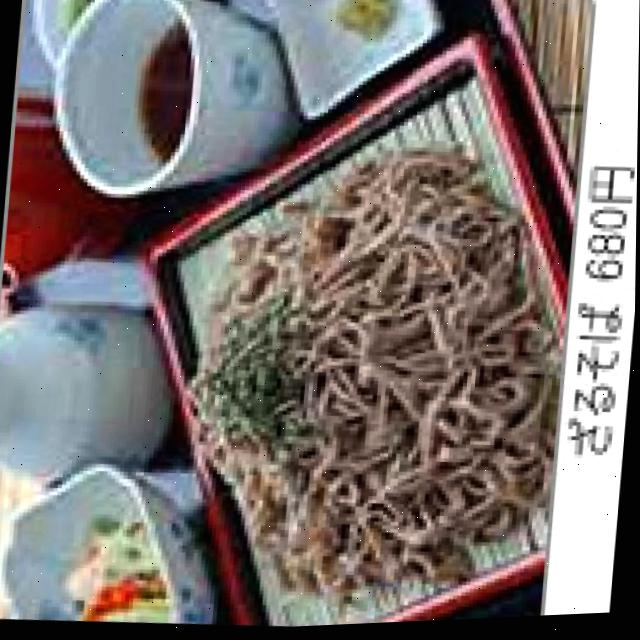面条主食: (104, 3, 586, 636)
